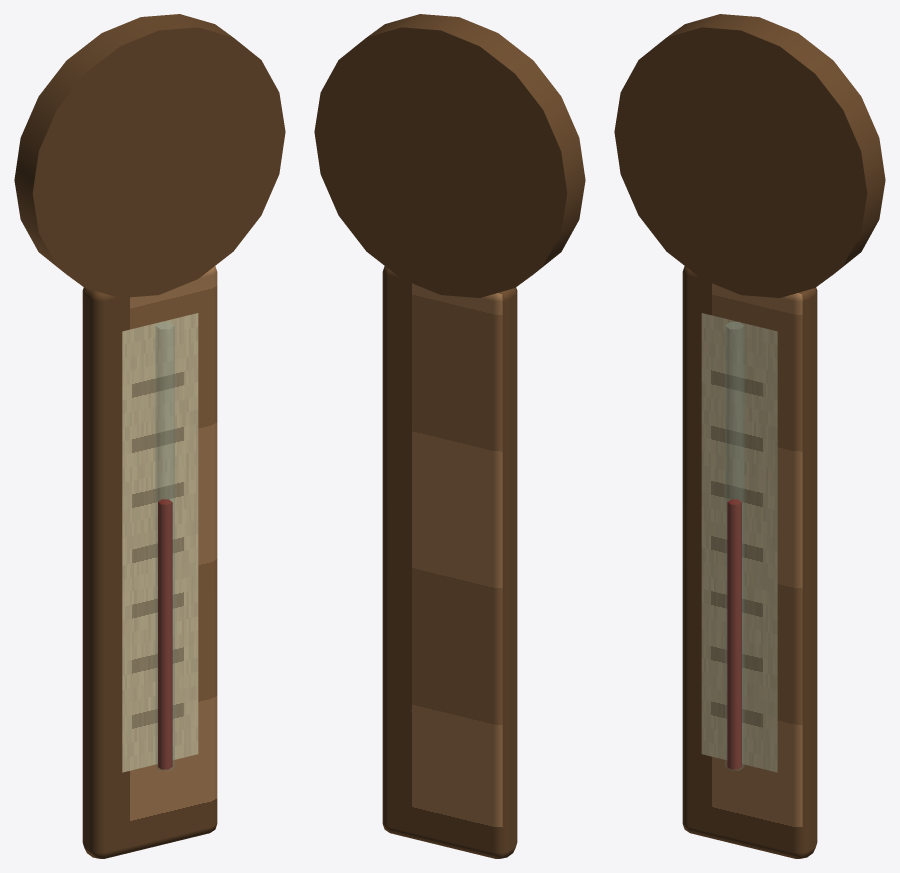
Rendered from barometer.glb.
The picture shows the model from 3 angles, left to right: view 1: azimuth 30°, elevation 25°; view 2: azimuth 150°, elevation 25°; view 3: azimuth 330°, elevation 25°; orthographic projection.
Visible parts, largest first — view 1: dyn_wood_variant, barometer; view 2: dyn_wood_variant; view 3: dyn_wood_variant, barometer.
Part boxes in pixels (x1,y1,x2,y2): dyn_wood_variant: [14, 14, 285, 858]; barometer: [122, 313, 198, 772]; dyn_wood_variant: [314, 14, 585, 858]; dyn_wood_variant: [614, 14, 885, 858]; barometer: [701, 313, 777, 772].
Bounding box in the file's own units: 0.2401 × 0.7441 × 0.048.
4 materials, 2 textured.
